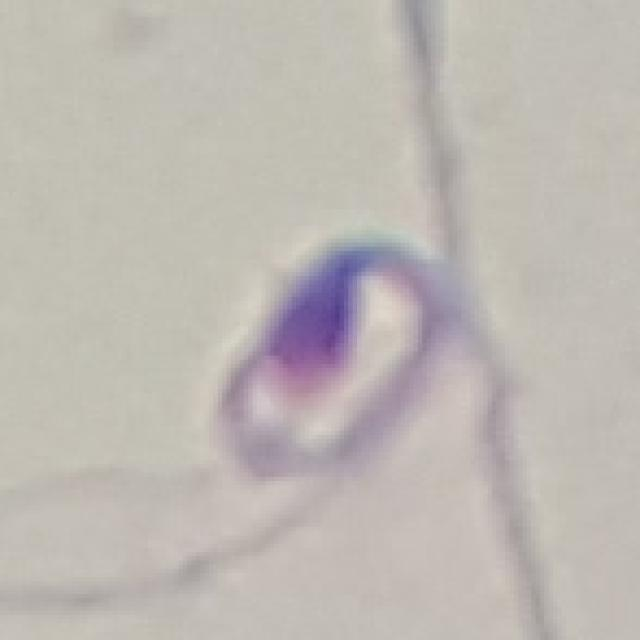non-sperm: (196, 213, 454, 483)
